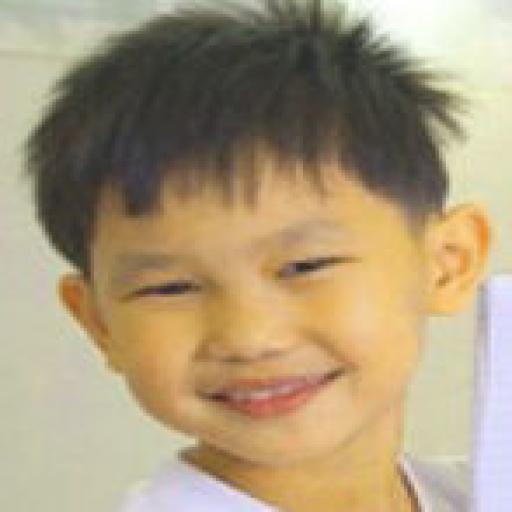Autism: (34, 12, 512, 512)
